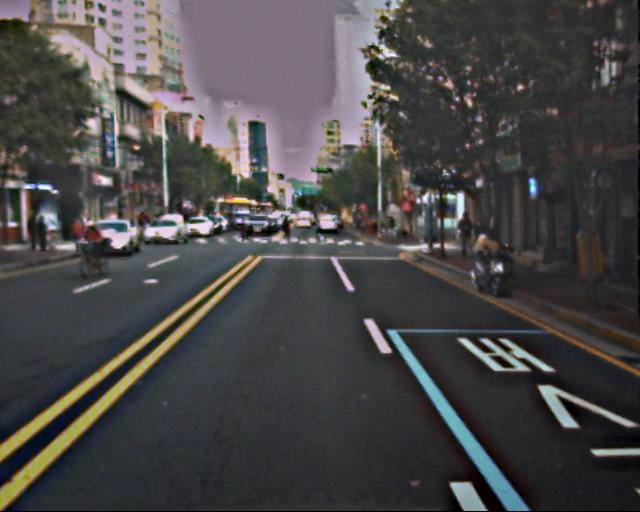person: (455, 211, 476, 263), (28, 214, 52, 249), (279, 216, 291, 246)
